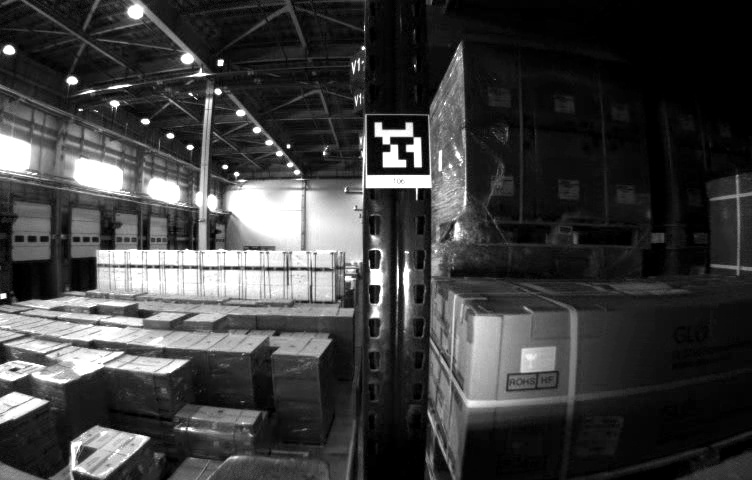True Barcode: (576, 416, 621, 459)
